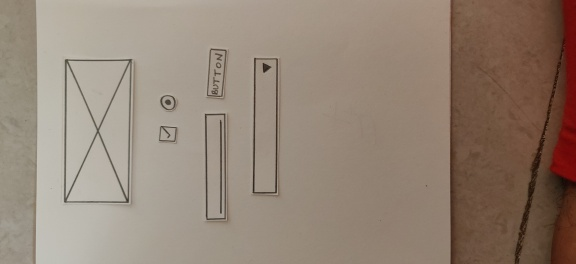button: (204, 46, 229, 100)
checkbox: (156, 124, 179, 145)
dropdown: (249, 55, 283, 198)
img: (61, 56, 134, 206)
radio: (158, 93, 178, 112)
text: (201, 110, 230, 224)
